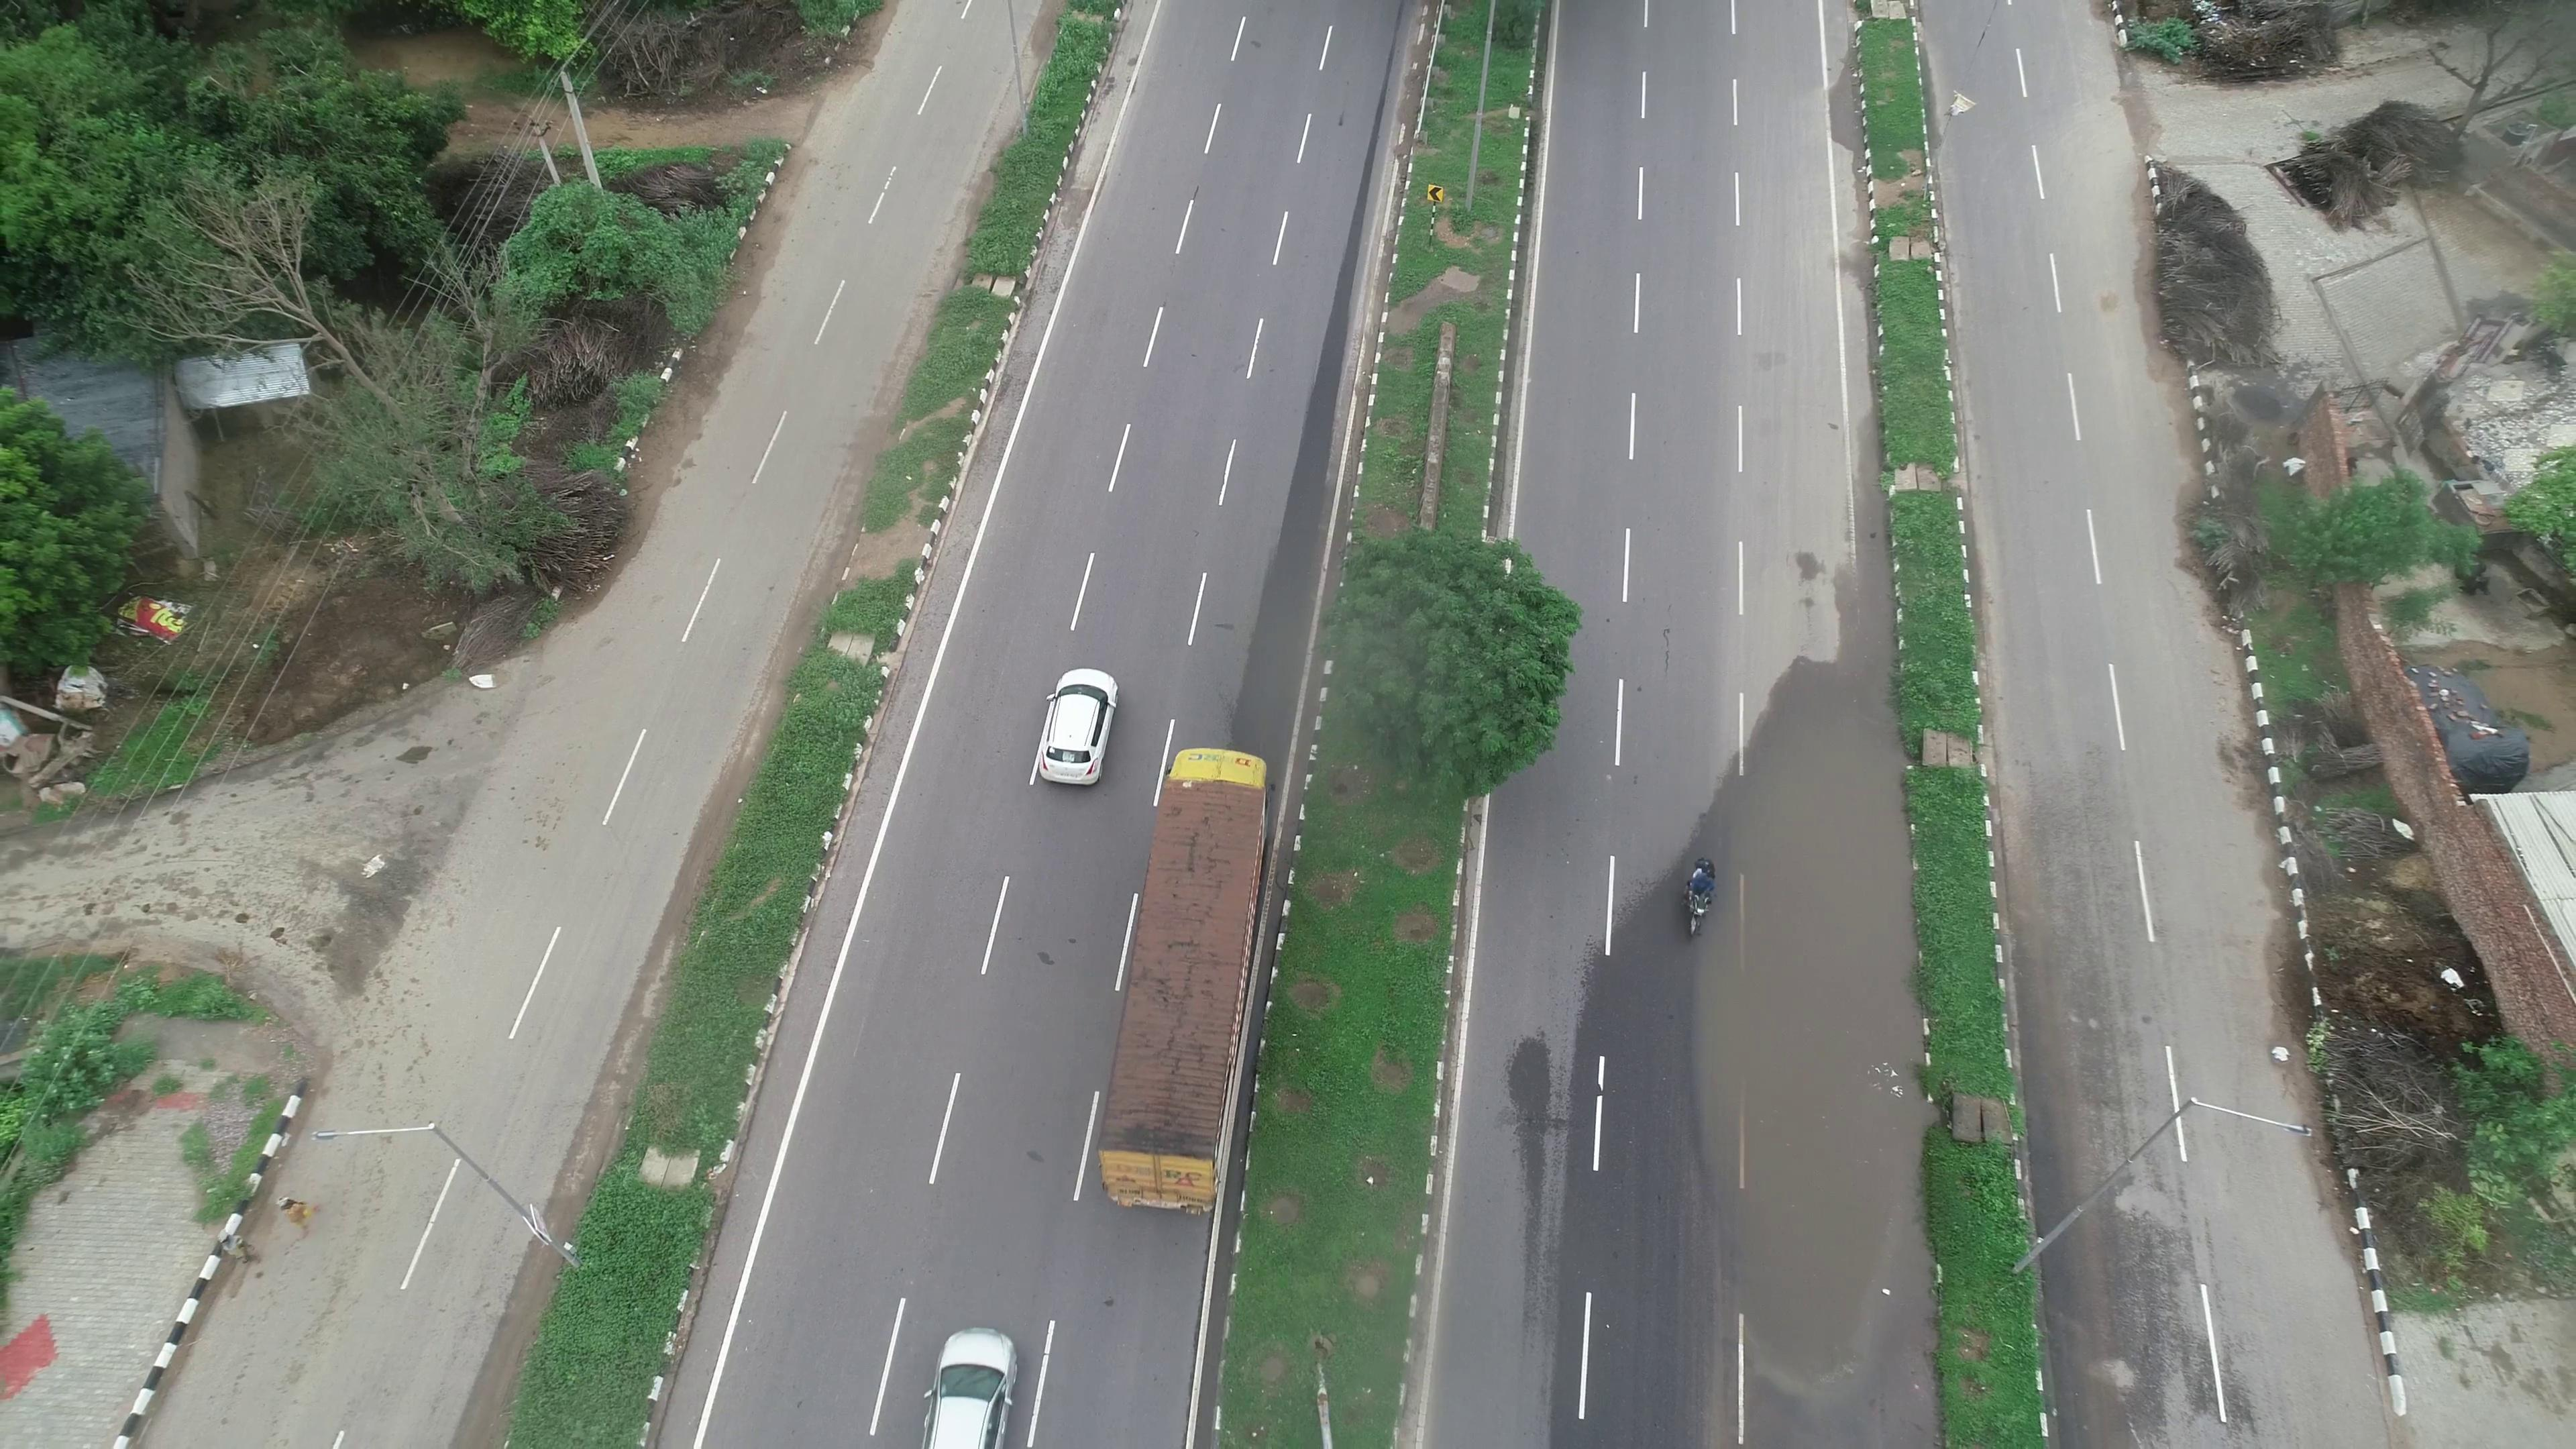Waterlogging: (1723, 692, 1921, 1403)
